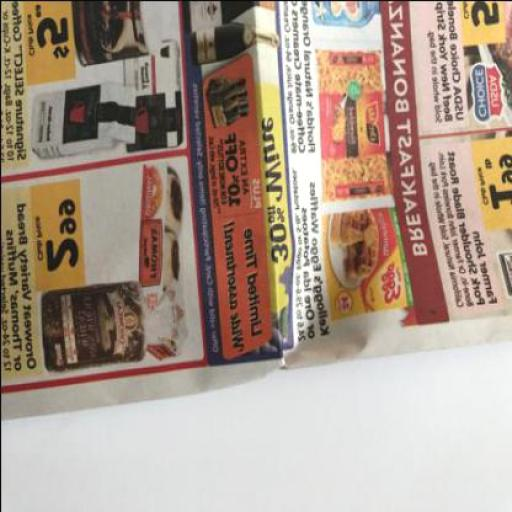paper: (0, 2, 511, 418)
